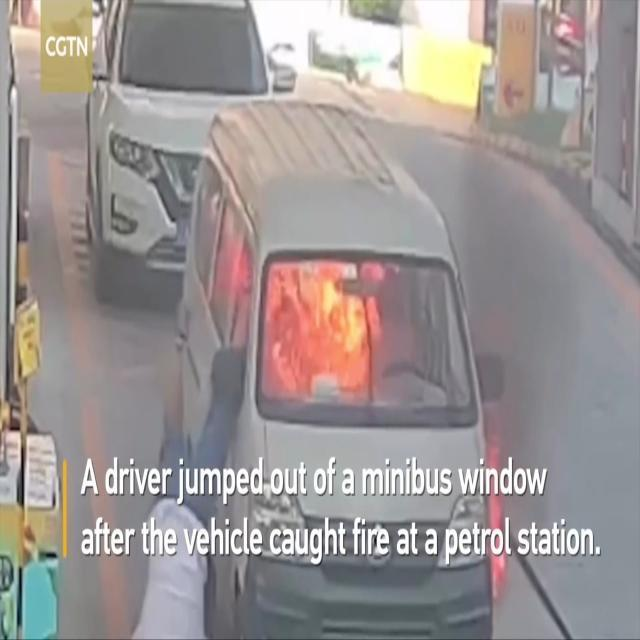fire: (264, 263, 386, 399), (489, 438, 512, 612)
